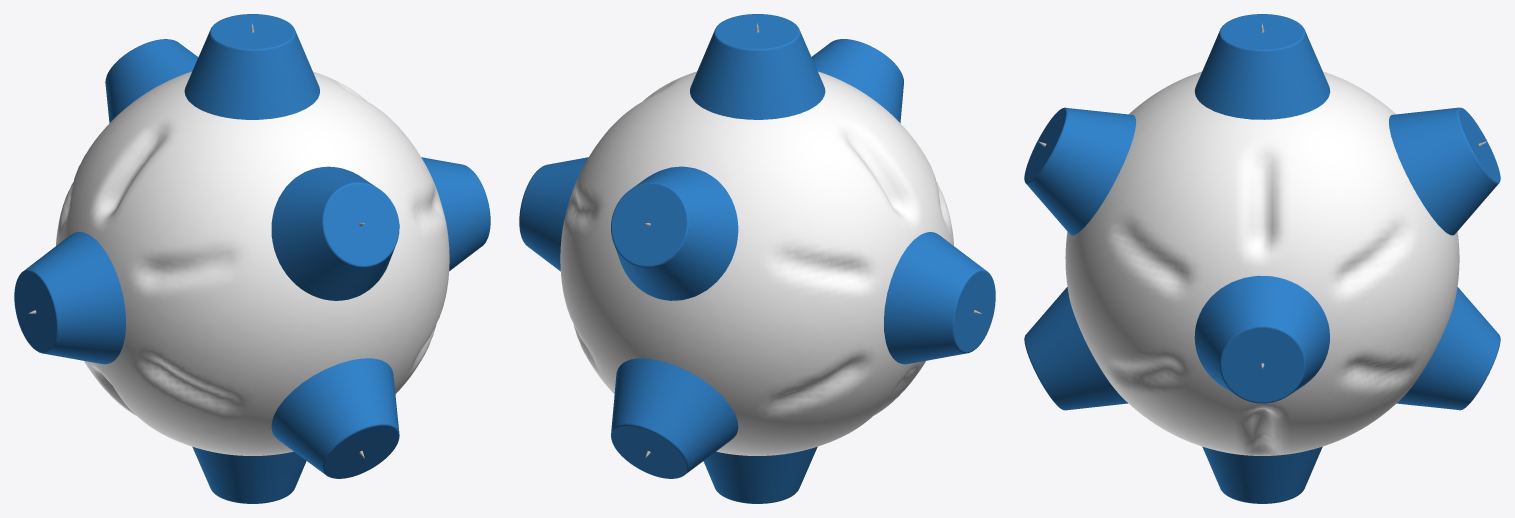
File: Ball.fbx
3 renders of one model, left to right at view 1: azimuth 30°, elevation 25°; view 2: azimuth 150°, elevation 25°; view 3: azimuth 270°, elevation 25°, orthographic.
Visible parts, largest first — view 1: PolySphere, PM3D_Cylinder3D3, PM3D_Cylinder3D2, PM3D_Cylinder3D4_1, PM3D_Cylinder3D4, PM3D_Cylinder3D1, PM3D_Cylinder3D4_3, PM3D_Cylinder3D3_1; view 2: PolySphere, PM3D_Cylinder3D3_1, PM3D_Cylinder3D4_2, PM3D_Cylinder3D4_1, PM3D_Cylinder3D4, PM3D_Cylinder3D1, PM3D_Cylinder3D4_3, PM3D_Cylinder3D3; view 3: PolySphere, PM3D_Cylinder3D4_3, PM3D_Cylinder3D4, PM3D_Cylinder3D3, PM3D_Cylinder3D3_1, PM3D_Cylinder3D4_2, PM3D_Cylinder3D2, PM3D_Cylinder3D1.
Boxes of the visible parts, x1=… form: PolySphere: x1=56, y1=71, x2=449, y2=455; PM3D_Cylinder3D3: x1=271, y1=166, x2=399, y2=300; PM3D_Cylinder3D2: x1=271, y1=358, x2=399, y2=478; PM3D_Cylinder3D4_1: x1=14, y1=232, x2=125, y2=364; PM3D_Cylinder3D4: x1=184, y1=14, x2=319, y2=119; PM3D_Cylinder3D1: x1=192, y1=446, x2=306, y2=503; PM3D_Cylinder3D4_3: x1=421, y1=157, x2=490, y2=271; PM3D_Cylinder3D3_1: x1=105, y1=39, x2=198, y2=122; PolySphere: x1=560, y1=71, x2=953, y2=455; PM3D_Cylinder3D3_1: x1=611, y1=166, x2=738, y2=300; PM3D_Cylinder3D4_2: x1=611, y1=358, x2=738, y2=478; PM3D_Cylinder3D4_1: x1=884, y1=232, x2=995, y2=364; PM3D_Cylinder3D4: x1=690, y1=14, x2=825, y2=119; PM3D_Cylinder3D1: x1=703, y1=446, x2=817, y2=503; PM3D_Cylinder3D4_3: x1=519, y1=157, x2=588, y2=271; PM3D_Cylinder3D3: x1=811, y1=39, x2=903, y2=122; PolySphere: x1=1065, y1=71, x2=1459, y2=455; PM3D_Cylinder3D4_3: x1=1194, y1=275, x2=1329, y2=403; PM3D_Cylinder3D4: x1=1194, y1=14, x2=1330, y2=119; PM3D_Cylinder3D3: x1=1024, y1=107, x2=1136, y2=235; PM3D_Cylinder3D3_1: x1=1389, y1=107, x2=1500, y2=235; PM3D_Cylinder3D4_2: x1=1396, y1=287, x2=1500, y2=410; PM3D_Cylinder3D2: x1=1024, y1=287, x2=1128, y2=410; PM3D_Cylinder3D1: x1=1202, y1=446, x2=1322, y2=503.
Size of the model in its own units: 1582 by 1582 by 1448.
